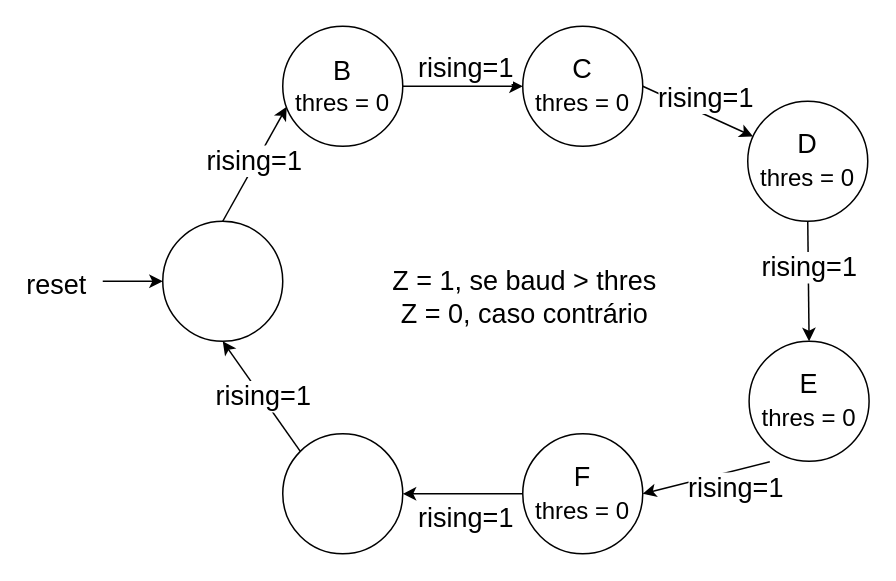
This 896x581 diagram has some shape labels left out. Each missing label, with the box of its shape:
A thres = 0: (161, 220, 283, 341)
G thres = 0: (281, 432, 403, 554)
